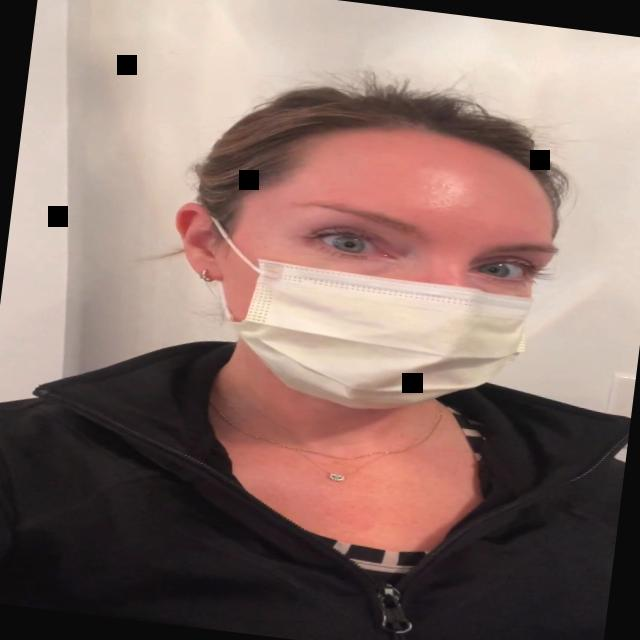Mask: (188, 106, 571, 432)
